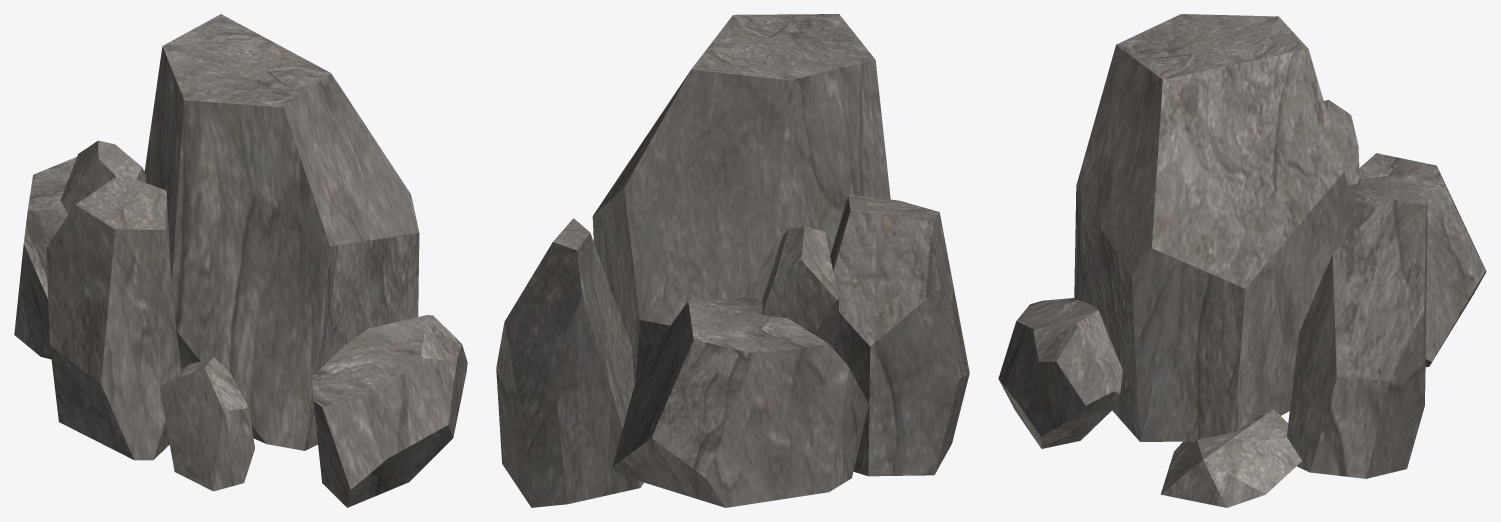
File: rockD.fbx
3 views of the same model, side by side, from view 1: azimuth 30°, elevation 25°; view 2: azimuth 150°, elevation 25°; view 3: azimuth 270°, elevation 25° (orthographic). The views are drawn at different scales.
Parts seen in each view (by area): view 1: Cluster04; view 2: Cluster04; view 3: Cluster04.
Part boxes in pixels (x1,y1,x2,y2): Cluster04: (14, 14, 467, 507); Cluster04: (496, 14, 969, 507); Cluster04: (998, 14, 1486, 507).
Bounding box in the file's own units: 120 × 108 × 128.
Materials: 1 (1 with a texture image).
